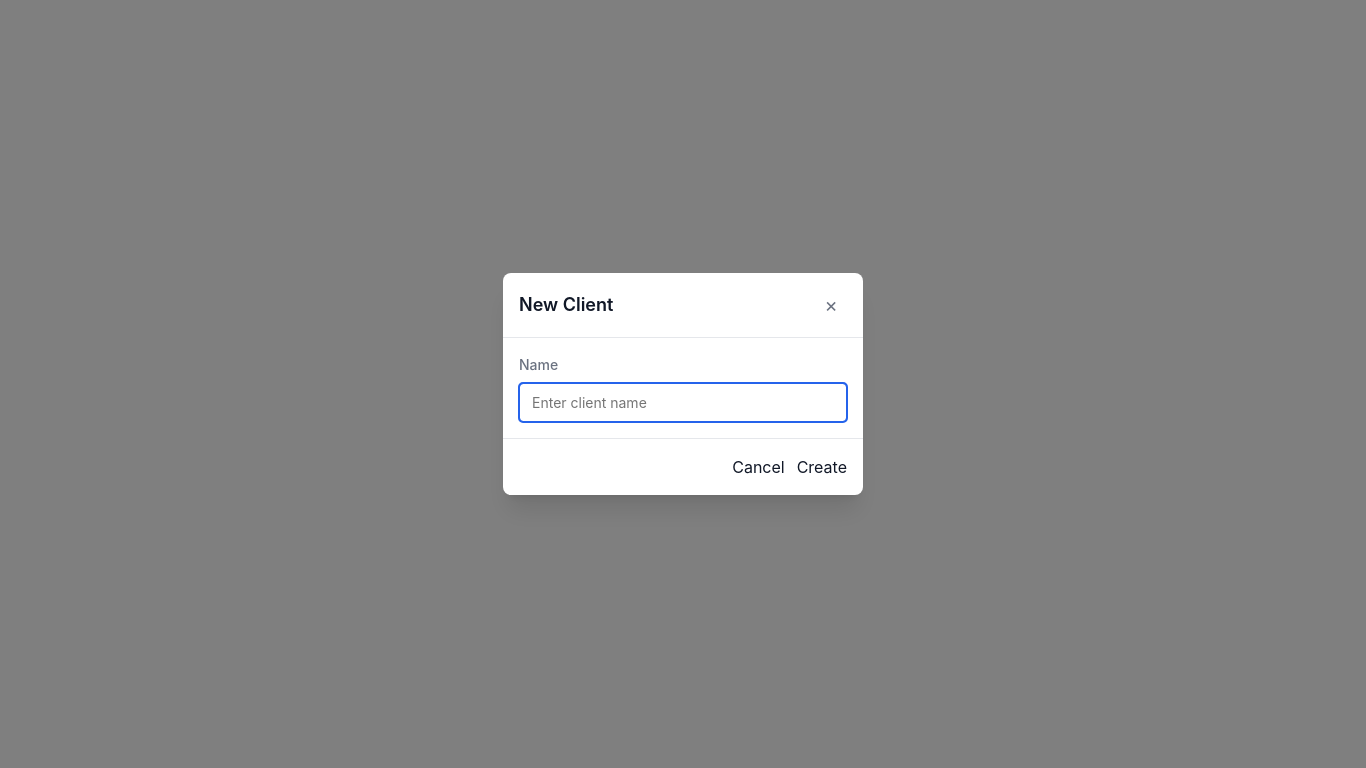
Test: CreateClientModal › displays an error message when creation fails
Type "Acme Corp" into the field with test id "create-client-name-input".
click(683, 402); type("Acme Corp")  # box [519,383,847,422]
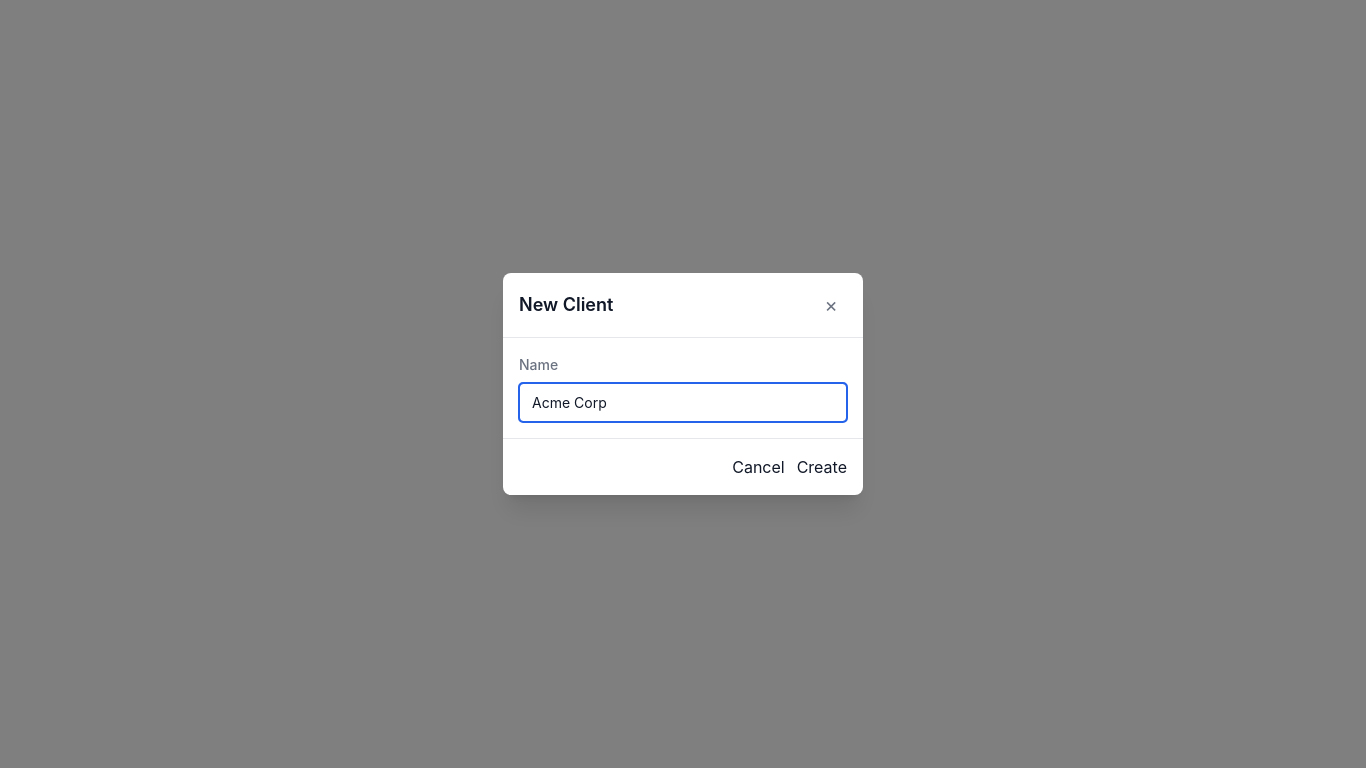
Submit the form with test id "create-client-form", box [519,354,847,422]
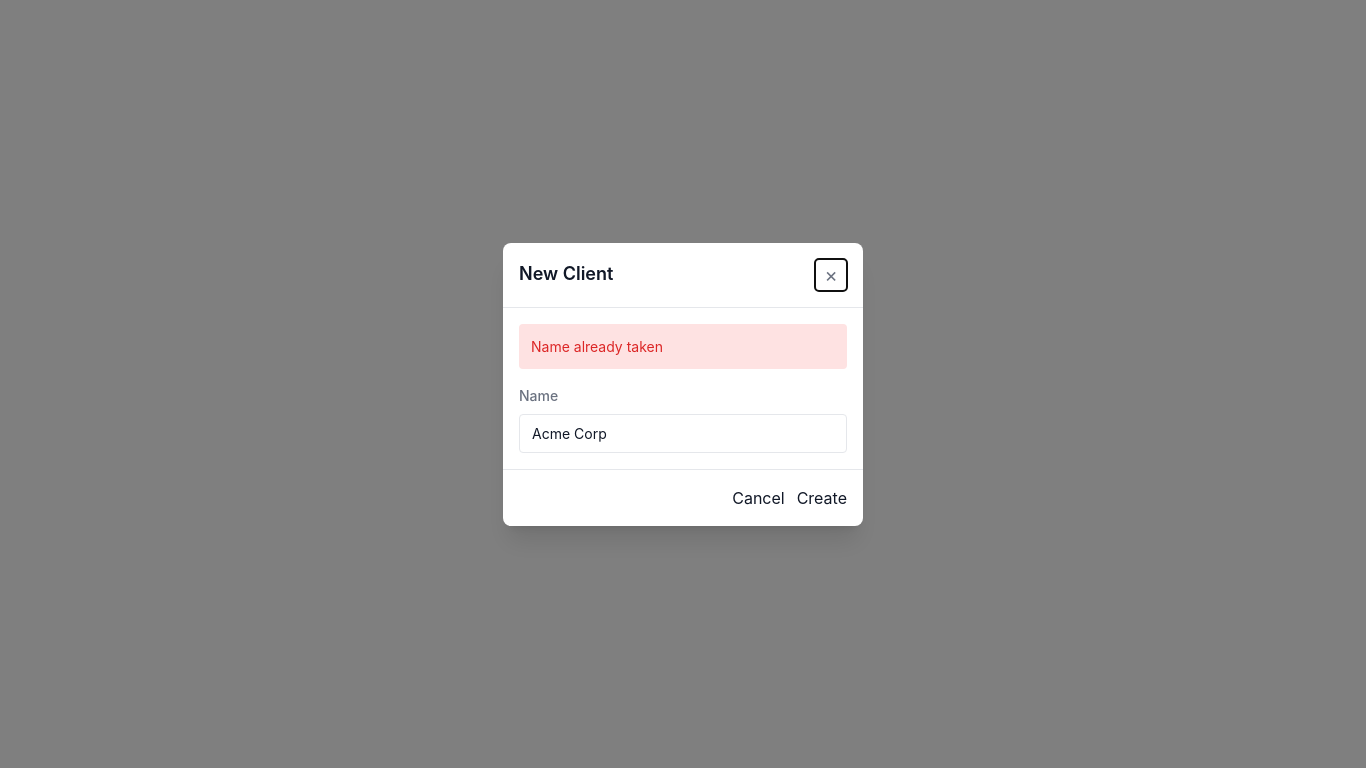
Check: the text with test id "create-client-error" reads "Name already taken", box [531,338,663,354]
